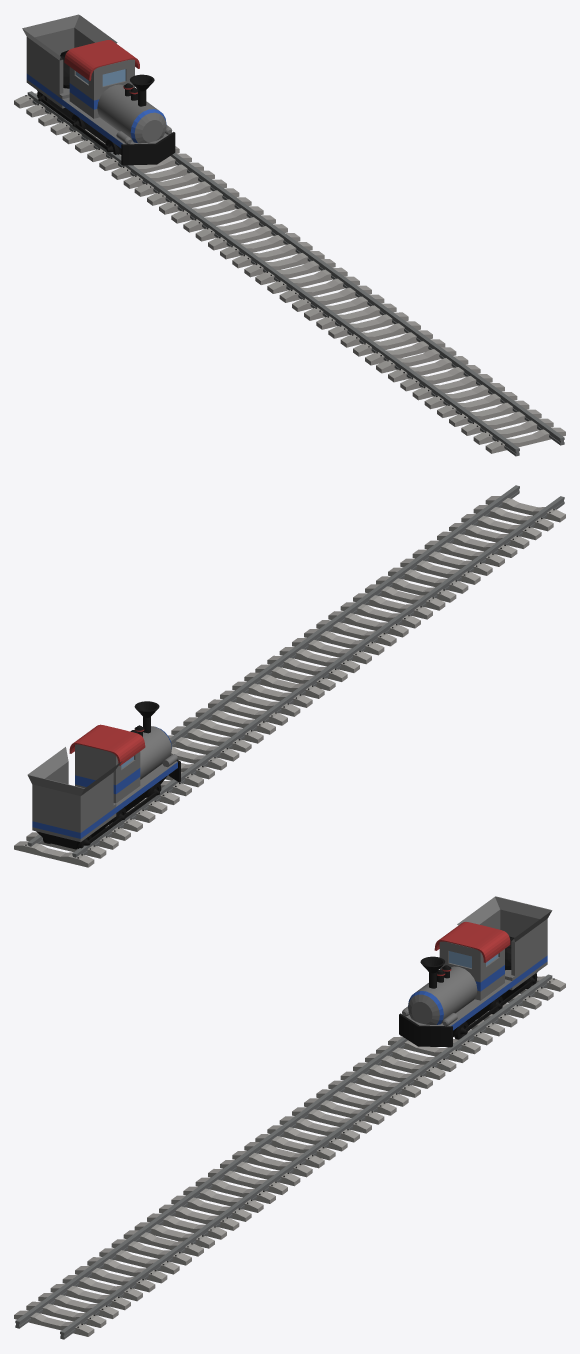
Rendered from train.glb.
3 views of the same model, one above another, from view 1: azimuth 30°, elevation 25°; view 2: azimuth 150°, elevation 25°; view 3: azimuth 330°, elevation 25° (orthographic).
Parts seen in each view (by area): view 1: Rails.002, GeoSphere002; view 2: Rails.002, GeoSphere002; view 3: Rails.002, GeoSphere002.
Part boxes in pixels (left/top/right/bottom): Rails.002: left=14, top=91, right=565, bottom=456; GeoSphere002: left=22, top=14, right=175, bottom=165; Rails.002: left=14, top=485, right=565, bottom=867; GeoSphere002: left=27, top=701, right=180, bottom=849; Rails.002: left=14, top=974, right=565, bottom=1339; GeoSphere002: left=399, top=896, right=552, bottom=1047.
Size of the model in its own units: 38.2 by 41.33 by 434.
